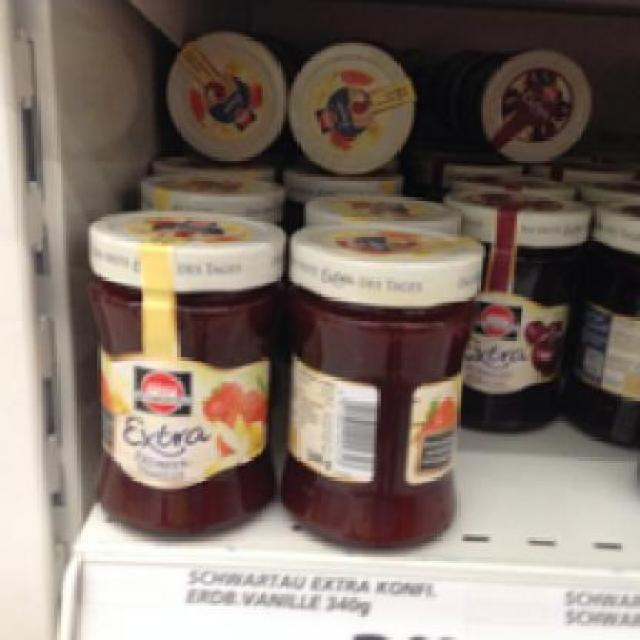Jam: (83, 206, 283, 534), (286, 223, 483, 552), (448, 180, 586, 429)
